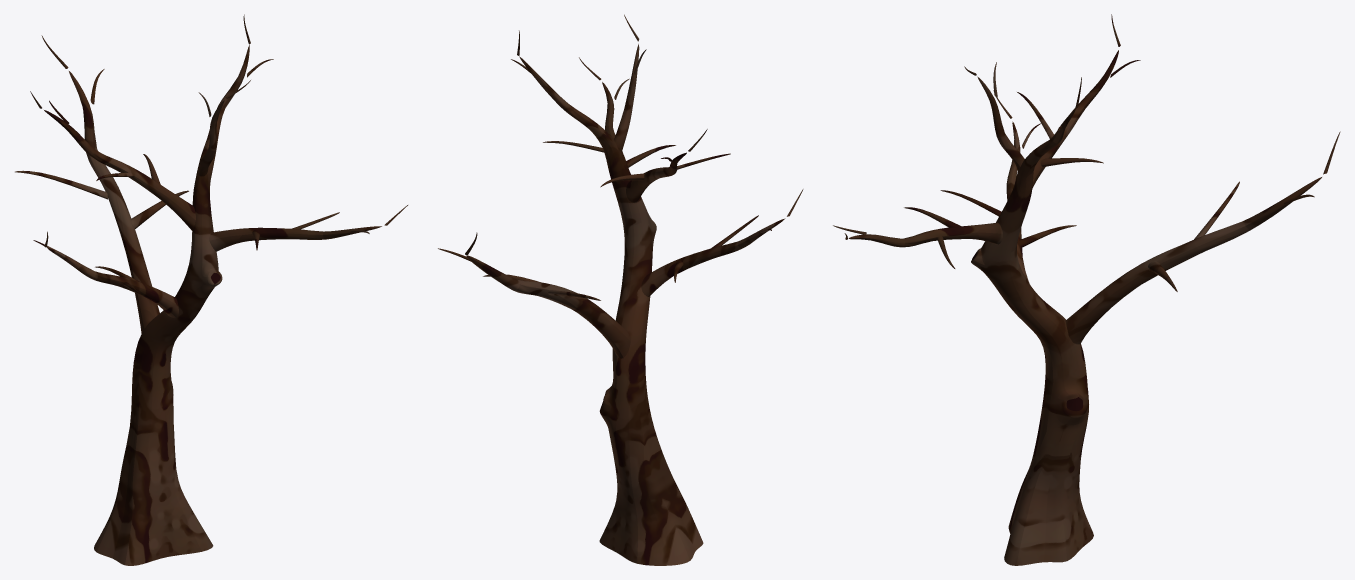
The model's file is PT_Fruit_Tree_02_dead.fbx.
3 renders of one model, left to right at view 1: azimuth 30°, elevation 25°; view 2: azimuth 150°, elevation 25°; view 3: azimuth 270°, elevation 25°, orthographic. The views are drawn at different scales.
Visible parts, largest first — view 1: PT_Fruit_Tree_01_dead_LOD0; view 2: PT_Fruit_Tree_01_dead_LOD0; view 3: PT_Fruit_Tree_01_dead_LOD0.
Part boxes in pixels (<box>): PT_Fruit_Tree_01_dead_LOD0: <box>15,14,407,565</box>; PT_Fruit_Tree_01_dead_LOD0: <box>438,14,803,565</box>; PT_Fruit_Tree_01_dead_LOD0: <box>833,14,1340,565</box>.
Size of what is drawn, in the model's own units: 6025 by 9714 by 8566.
